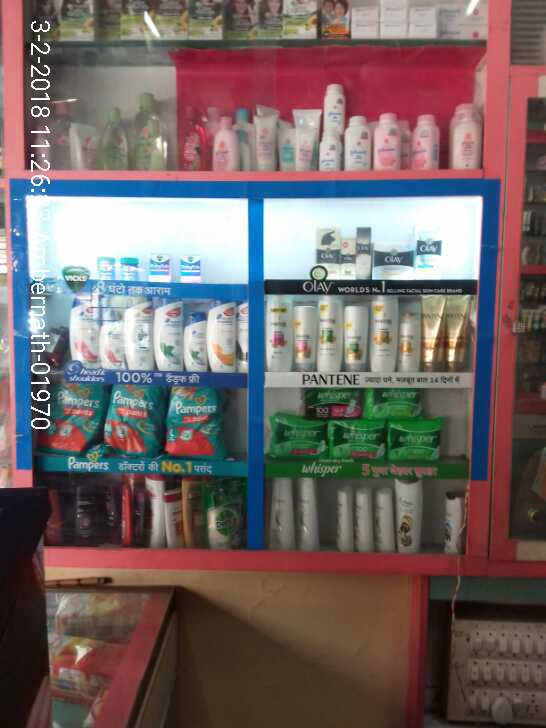vicks: (92, 251, 212, 292)
